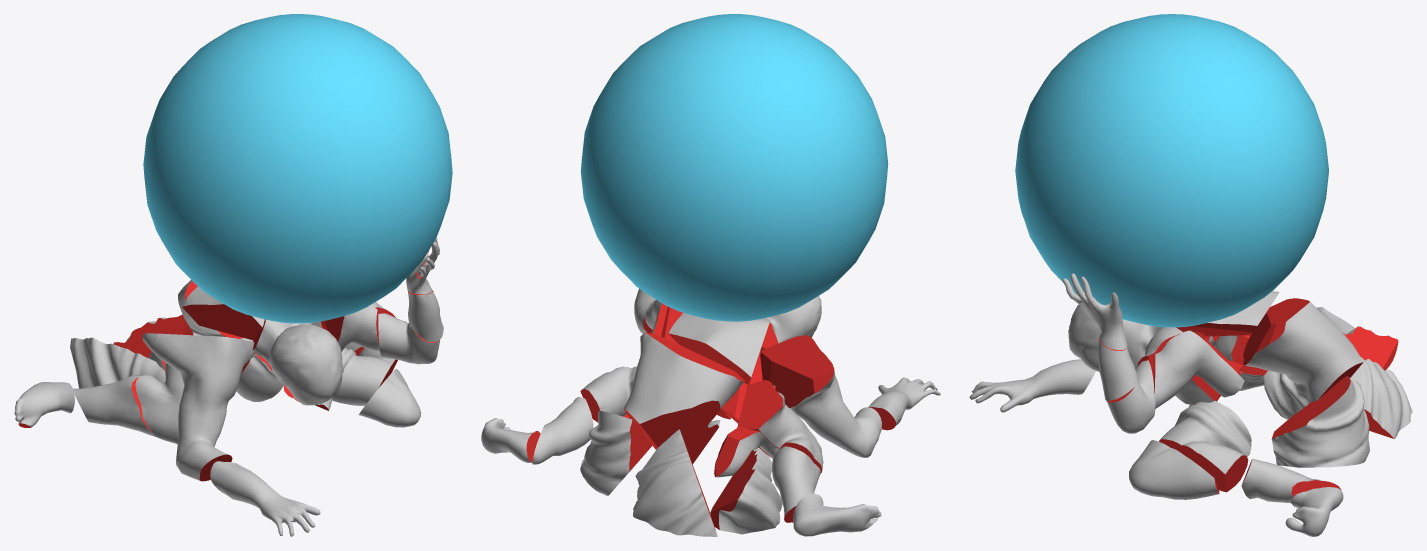
The model's file is Statue_The.Relic.fbx.
3 renders of one model, left to right at view 1: azimuth 30°, elevation 25°; view 2: azimuth 150°, elevation 25°; view 3: azimuth 270°, elevation 25°, orthographic.
Visible parts, largest first — view 1: Statue_low.004, Statue_low.002_cell.058, Statue_low.002_cell.044, Statue_low.002_cell.038, Statue_low.002_cell.059, Statue_low.002_cell.054, Statue_low.002_cell.043, Statue_low.002_cell.055, Statue_low.002_cell.050, Statue_low.002_cell.049, Statue_low.002_cell.060, Statue_low.002_cell.051 (+6 smaller); view 2: Statue_low.004, Statue_low.002_cell.048, Statue_low.002_cell.058, Statue_low.002_cell.039, Statue_low.002_cell.059, Statue_low.002_cell.054, Statue_low.002_cell.049, Statue_low.002_cell.053, Statue_low.002_cell.043, Statue_low.002_cell.051, Statue_low.002_cell.056, Statue_low.002_cell.055 (+6 smaller); view 3: Statue_low.004, Statue_low.002_cell.048, Statue_low.002_cell.053, Statue_low.002_cell.055, Statue_low.002_cell.057, Statue_low.002_cell.050, Statue_low.002_cell.038, Statue_low.002_cell.039, Statue_low.002_cell.044, Statue_low.002_cell.056, Statue_low.002_cell.060, Statue_low.002_cell.052 (+7 smaller).
Part boxes in pixels (x1=…): Statue_low.004: x1=143, y1=14, x2=452, y2=323; Statue_low.002_cell.058: x1=142, y1=333, x2=254, y2=481; Statue_low.002_cell.044: x1=252, y1=319, x2=343, y2=405; Statue_low.002_cell.038: x1=210, y1=461, x2=320, y2=536; Statue_low.002_cell.059: x1=70, y1=337, x2=165, y2=388; Statue_low.002_cell.054: x1=73, y1=351, x2=165, y2=437; Statue_low.002_cell.043: x1=135, y1=362, x2=183, y2=444; Statue_low.002_cell.055: x1=315, y1=347, x2=397, y2=410; Statue_low.002_cell.050: x1=359, y1=368, x2=421, y2=427; Statue_low.002_cell.049: x1=182, y1=287, x2=264, y2=340; Statue_low.002_cell.060: x1=378, y1=313, x2=439, y2=364; Statue_low.002_cell.051: x1=14, y1=382, x2=74, y2=427; Statue_low.004: x1=581, y1=14, x2=888, y2=321; Statue_low.002_cell.048: x1=623, y1=332, x2=744, y2=463; Statue_low.002_cell.058: x1=760, y1=335, x2=881, y2=457; Statue_low.002_cell.039: x1=633, y1=429, x2=717, y2=536; Statue_low.002_cell.059: x1=710, y1=448, x2=782, y2=534; Statue_low.002_cell.054: x1=714, y1=426, x2=820, y2=522; Statue_low.002_cell.049: x1=668, y1=312, x2=770, y2=384; Statue_low.002_cell.053: x1=580, y1=411, x2=652, y2=495; Statue_low.002_cell.043: x1=737, y1=380, x2=823, y2=473; Statue_low.002_cell.051: x1=793, y1=494, x2=881, y2=536; Statue_low.002_cell.056: x1=532, y1=397, x2=593, y2=464; Statue_low.002_cell.055: x1=580, y1=366, x2=636, y2=422; Statue_low.004: x1=1015, y1=14, x2=1328, y2=327; Statue_low.002_cell.048: x1=1243, y1=298, x2=1363, y2=419; Statue_low.002_cell.053: x1=1271, y1=376, x2=1369, y2=467; Statue_low.002_cell.055: x1=1159, y1=401, x2=1251, y2=492; Statue_low.002_cell.057: x1=1154, y1=330, x2=1244, y2=408; Statue_low.002_cell.050: x1=1129, y1=440, x2=1219, y2=499; Statue_low.002_cell.038: x1=969, y1=359, x2=1095, y2=412; Statue_low.002_cell.039: x1=1350, y1=357, x2=1412, y2=438; Statue_low.002_cell.044: x1=1068, y1=304, x2=1205, y2=371; Statue_low.002_cell.056: x1=1241, y1=458, x2=1341, y2=503; Statue_low.002_cell.060: x1=1106, y1=360, x2=1155, y2=433; Statue_low.002_cell.052: x1=1285, y1=487, x2=1343, y2=536.
Bounding box in the file's own units: 372 × 373 × 355.
